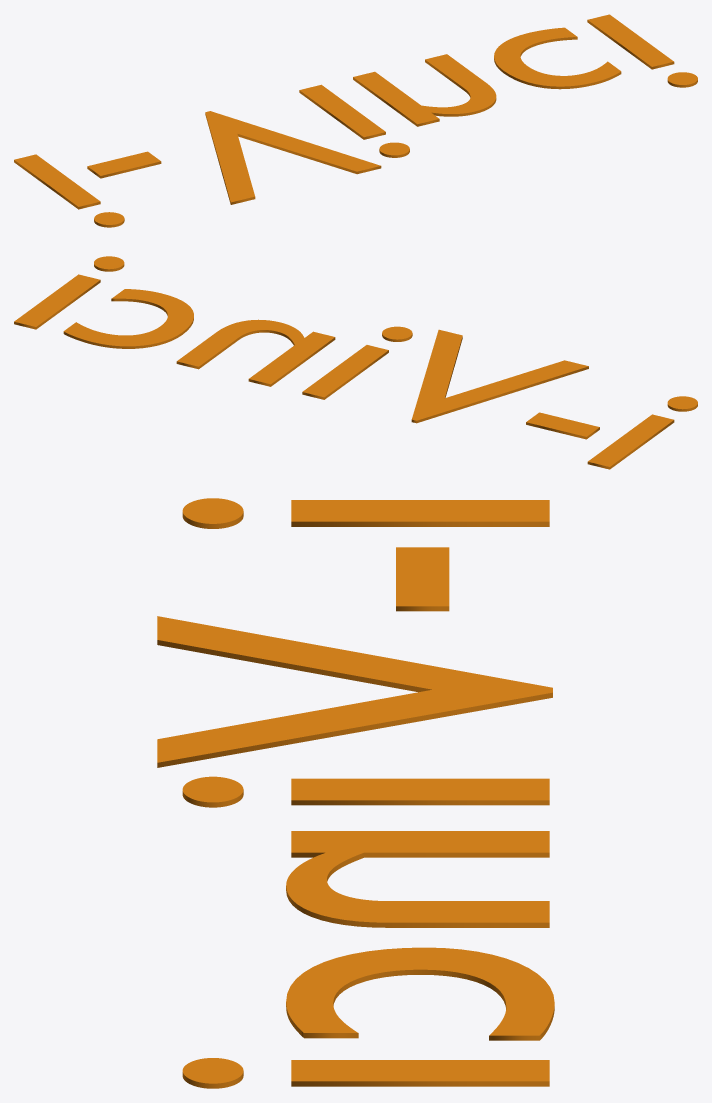
File: vinci.glb
The picture shows the model from 3 angles, top to bottom: view 1: azimuth 30°, elevation 25°; view 2: azimuth 150°, elevation 25°; view 3: azimuth 270°, elevation 25°; orthographic projection. The views are drawn at different scales.
Parts seen in each view (by area): view 1: テキスト; view 2: テキスト; view 3: テキスト.
Part boxes in pixels (x1=…): テキスト: x1=14, y1=14, x2=697, y2=227; テキスト: x1=14, y1=256, x2=697, y2=469; テキスト: x1=157, y1=498, x2=554, y2=1088.
Bounding box in the file's own units: 2433 × 10 × 698.
